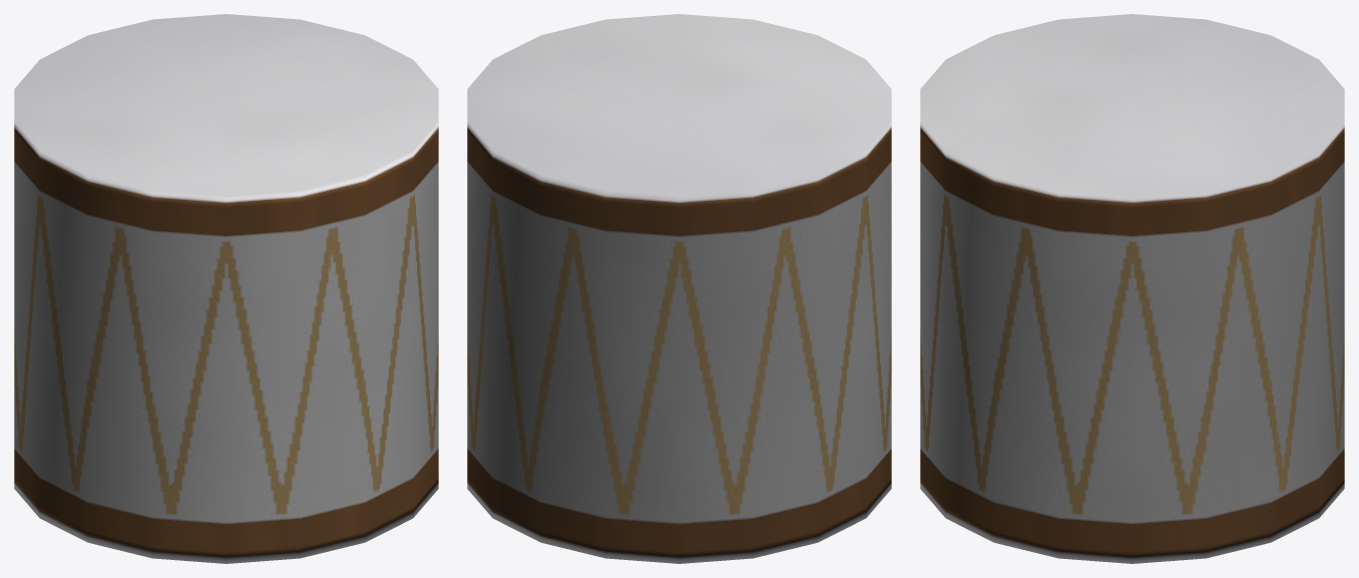
File: tambour.glb
The picture shows the model from 3 angles, left to right: view 1: azimuth 30°, elevation 25°; view 2: azimuth 150°, elevation 25°; view 3: azimuth 270°, elevation 25°; orthographic projection.
Parts seen in each view (by area): view 1: tambour; view 2: tambour; view 3: tambour.
Part boxes in pixels (x1,y1,x2,y2): tambour: [14, 14, 438, 563]; tambour: [467, 14, 891, 563]; tambour: [920, 14, 1344, 563].
Bounding box in the file's own units: 0.34 × 0.32 × 0.3348.
Materials: 1 (1 with a texture image).
